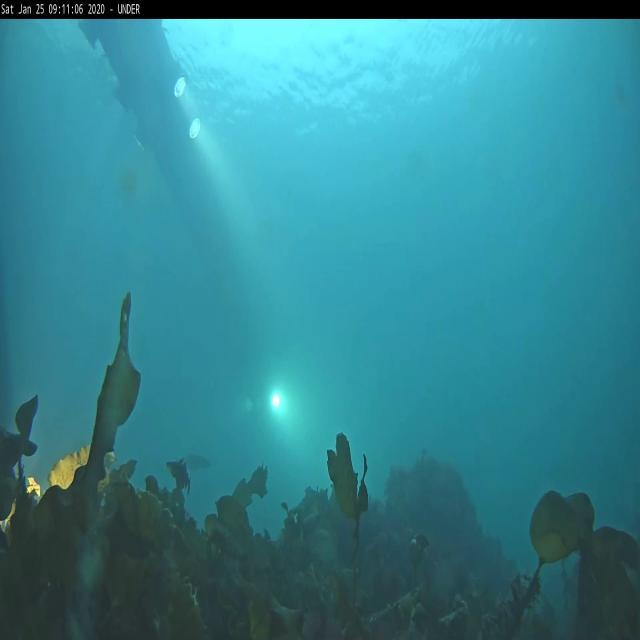fish: (166, 456, 192, 494), (186, 450, 212, 477)
